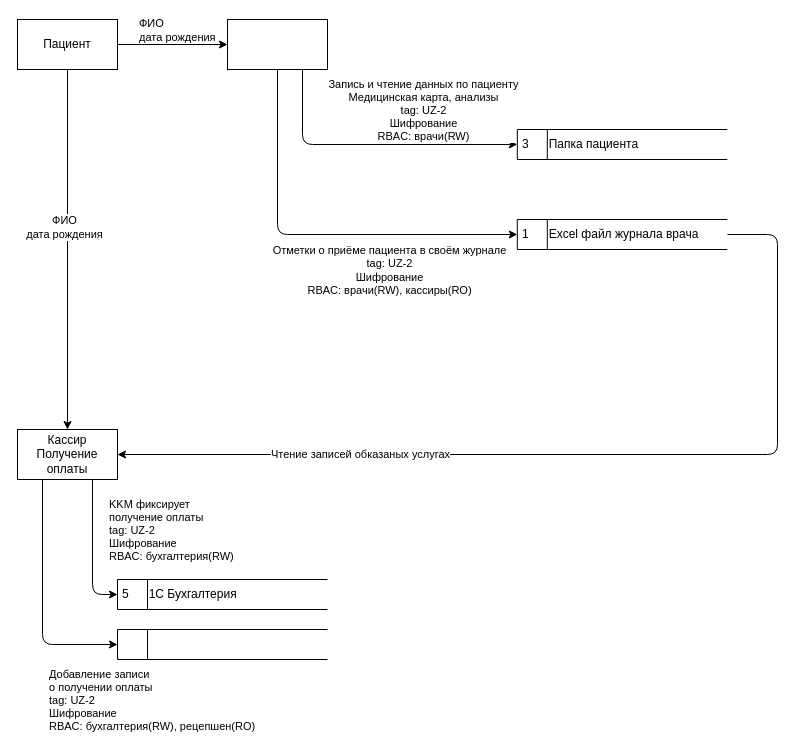
Some shapes in this 803 by 750 pixel diagram are drawn without their labels. Here are the shapes that lost their labels. From the top down, the centre of each, then its label:
At (x=277, y=44): "Врач Приём пациента".
At (x=222, y=644): "6 Excel файл учета платежей".
